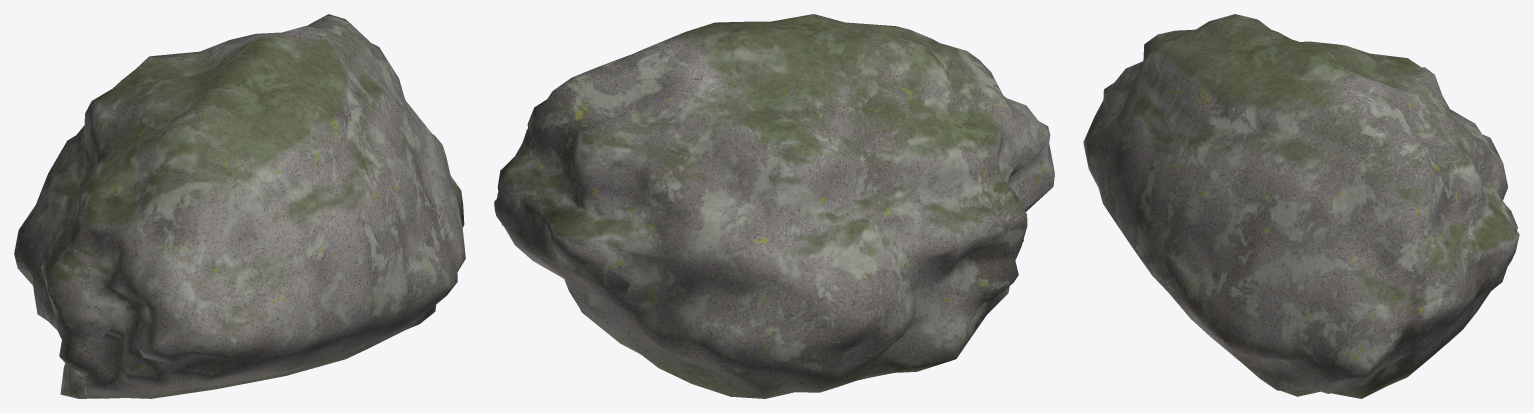
Rendered from boulder_400_LOD0.fbx.
3 renders of one model, left to right at view 1: azimuth 30°, elevation 25°; view 2: azimuth 150°, elevation 25°; view 3: azimuth 270°, elevation 25°, orthographic. The views are drawn at different scales.
Parts seen in each view (by area): view 1: Boulder_400_LOD0; view 2: Boulder_400_LOD0; view 3: Boulder_400_LOD0.
Part boxes in pixels (x1=…): Boulder_400_LOD0: x1=14, y1=14, x2=465, y2=398; Boulder_400_LOD0: x1=494, y1=14, x2=1054, y2=398; Boulder_400_LOD0: x1=1083, y1=14, x2=1519, y2=398.
Bounding box in the file's own units: 3.74 × 2.37 × 3.18.
1 material, 1 textured.
